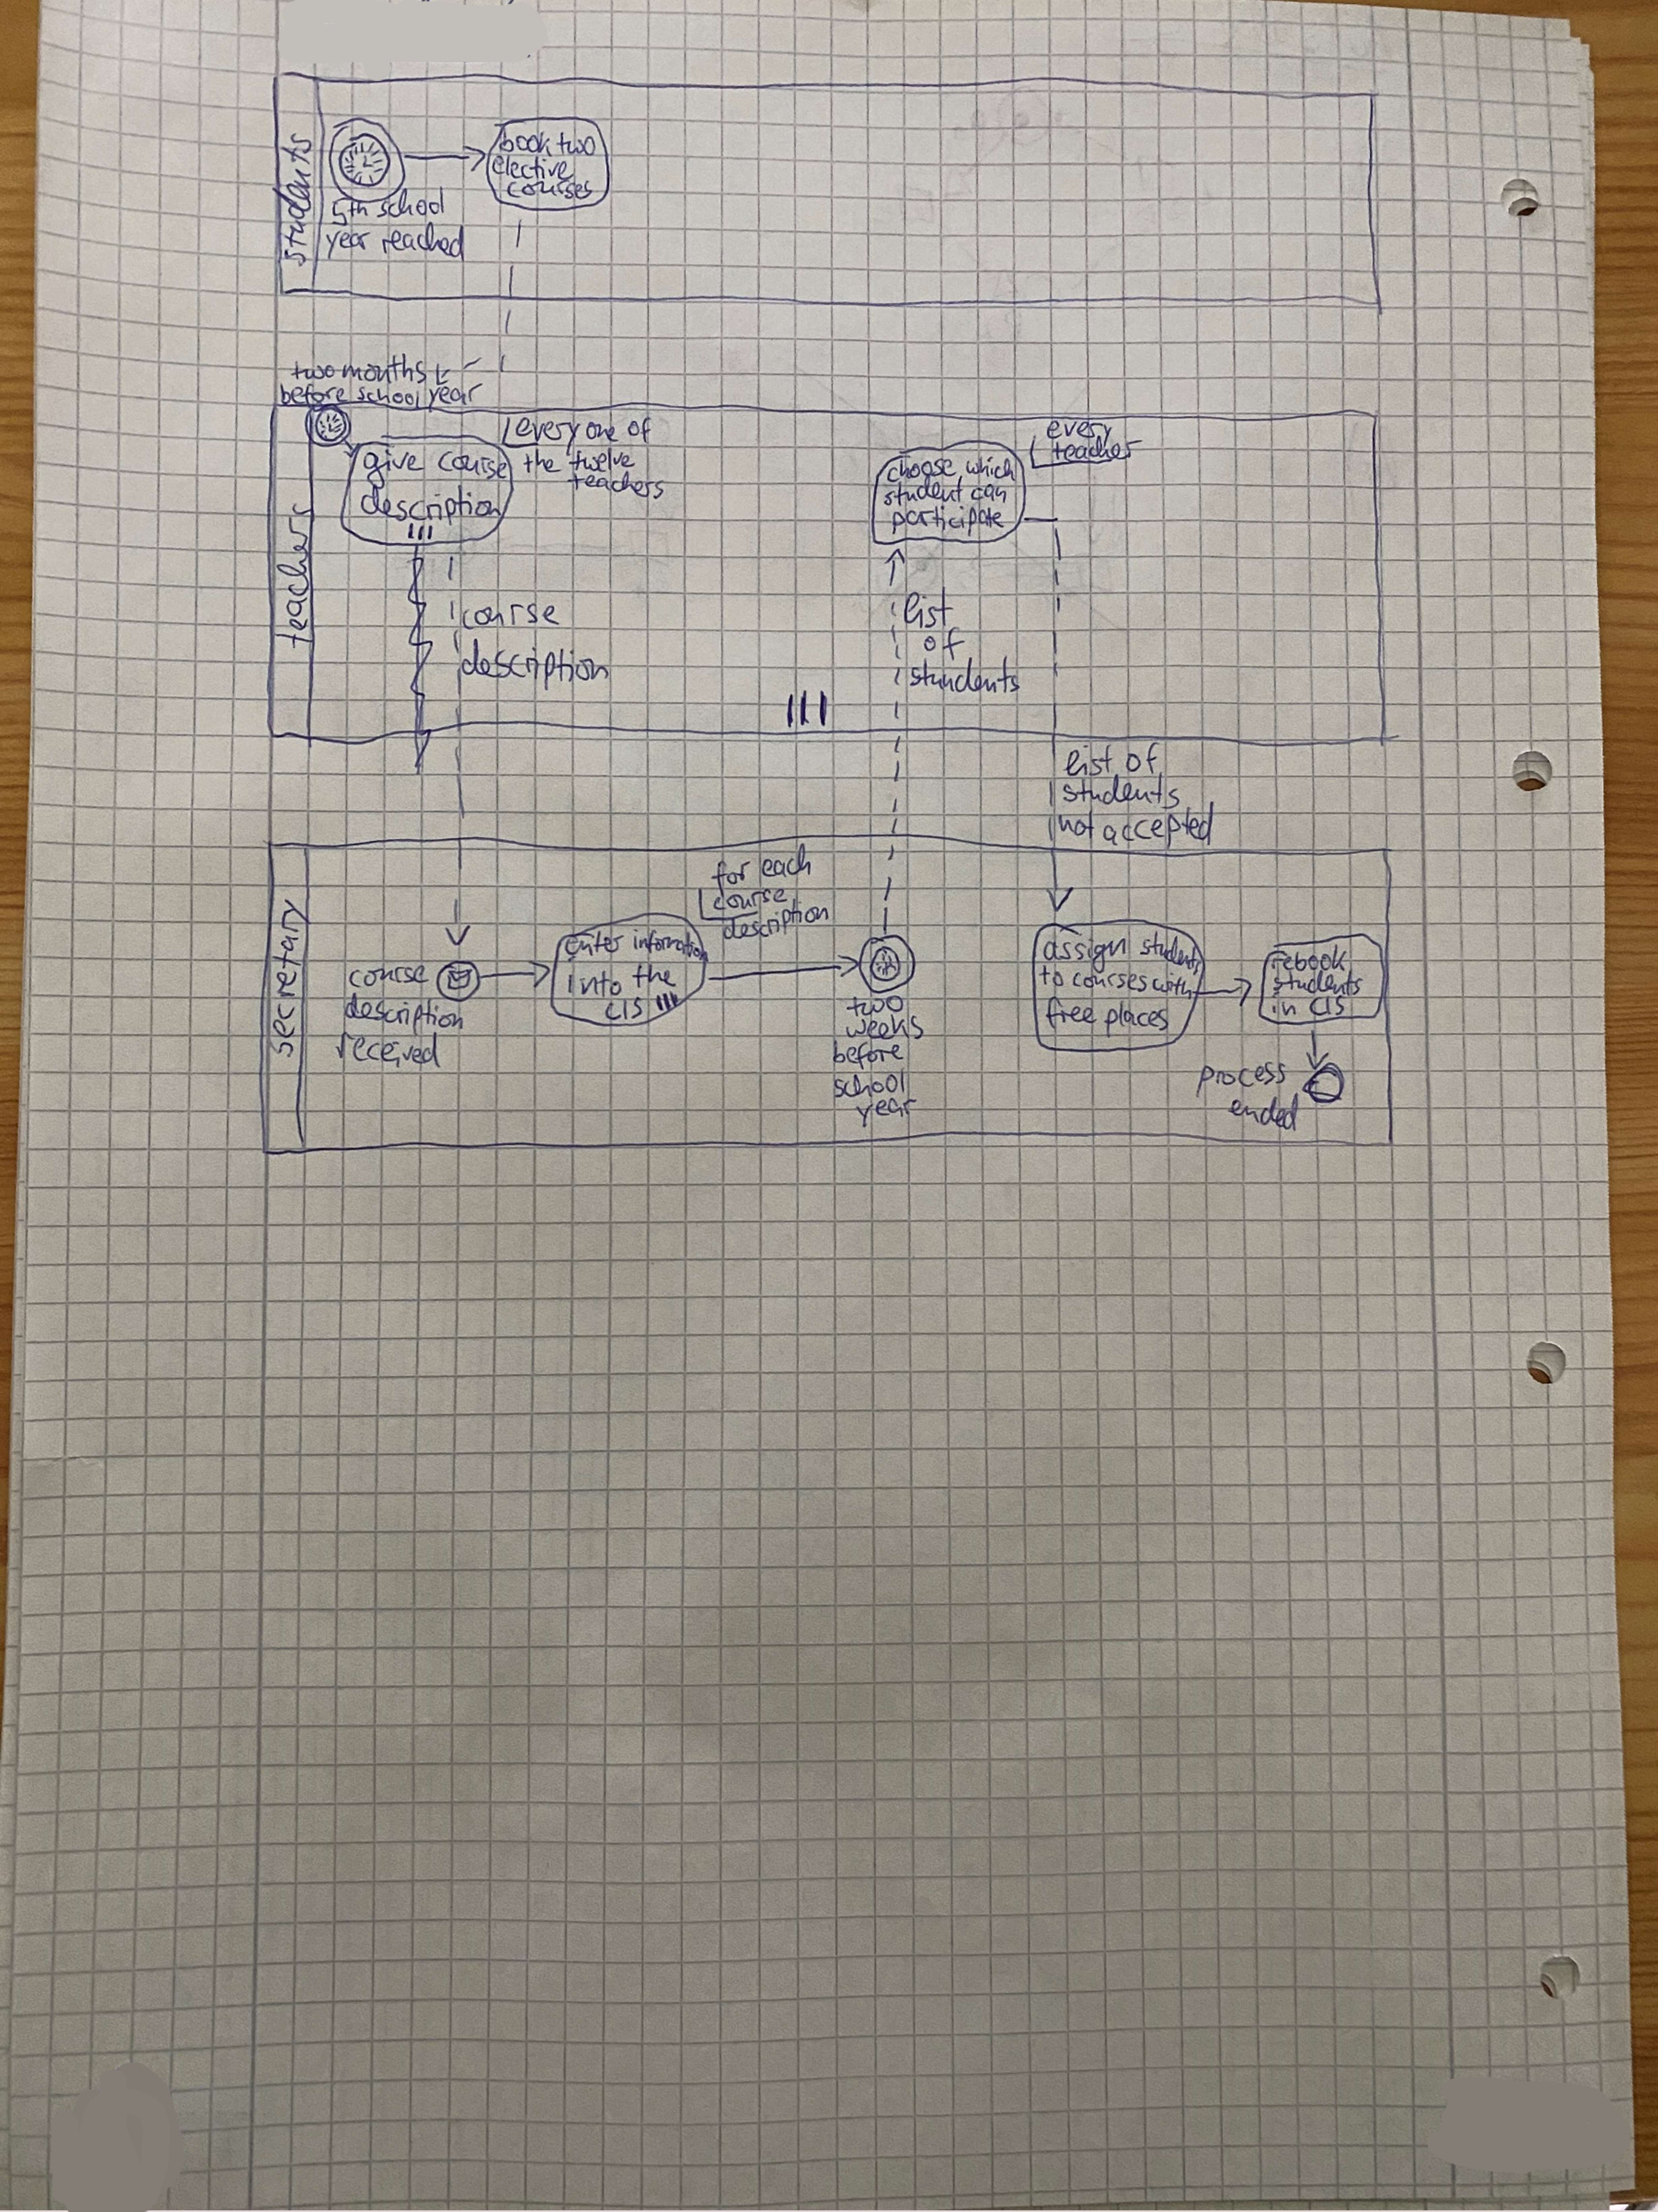5th: (331, 191, 370, 227)
CIS: (1307, 994, 1347, 1017), (605, 996, 643, 1019)
III: (784, 684, 828, 729), (406, 523, 435, 541), (653, 996, 675, 1012)
[every: (503, 413, 584, 455)
accepted: (1102, 803, 1215, 848)
assign: (1044, 937, 1129, 967)
before: (832, 1040, 902, 1068), (279, 383, 347, 404)
book: (498, 127, 552, 156)
can: (970, 483, 1009, 503)
choose: (884, 461, 954, 486)
course: (459, 602, 559, 628), (437, 451, 509, 479), (349, 965, 429, 987), (712, 889, 787, 911)
courses: (505, 177, 593, 201), (1072, 971, 1147, 992)
description: (463, 638, 612, 689), (359, 486, 499, 523), (345, 990, 466, 1029), (720, 911, 827, 944)
each: (760, 844, 812, 879)
elective: (491, 157, 574, 179)
ended: (1229, 1092, 1301, 1130)
enter: (564, 934, 624, 957)
every: (1044, 419, 1116, 441)
for: (710, 855, 755, 896)
free: (1045, 1000, 1097, 1027)
give: (362, 447, 426, 486)
in: (1270, 992, 1295, 1015)
information: (631, 928, 708, 964)
into: (563, 956, 627, 997)
list: (904, 588, 953, 629), (1064, 743, 1116, 779)
months: (339, 353, 426, 386)
not: (1057, 810, 1097, 840)
of: (924, 627, 962, 659), (1123, 742, 1161, 774), (626, 416, 652, 443)
one: (583, 422, 621, 442)
participate: (889, 506, 1005, 535)
places: (1104, 1000, 1169, 1033)
process: (1199, 1062, 1286, 1094)
reached: (381, 225, 465, 259)
rebook: (1271, 945, 1346, 972)
received: (336, 1032, 441, 1070)
school: (377, 188, 448, 220), (832, 1070, 907, 1097), (353, 385, 422, 407)
secretary: (269, 899, 307, 1057)
student: (879, 477, 965, 505)
students: (273, 132, 315, 268), (1061, 775, 1179, 809), (1272, 970, 1363, 995), (1147, 924, 1215, 952)
stundents: (909, 659, 1025, 696)
teacher: (1052, 438, 1143, 461)
teachers: (274, 502, 317, 649), (569, 472, 666, 499)
the: (519, 448, 563, 479), (630, 963, 676, 990)
to: (1038, 965, 1063, 988)
twelve: (572, 449, 636, 473)
two: (553, 129, 603, 159), (848, 997, 904, 1015), (291, 359, 334, 381)
weeks: (843, 1015, 922, 1040)
which: (968, 450, 1019, 472)
with: (1154, 967, 1195, 994)
year: (853, 1101, 915, 1130), (322, 225, 369, 257), (426, 382, 482, 408)
